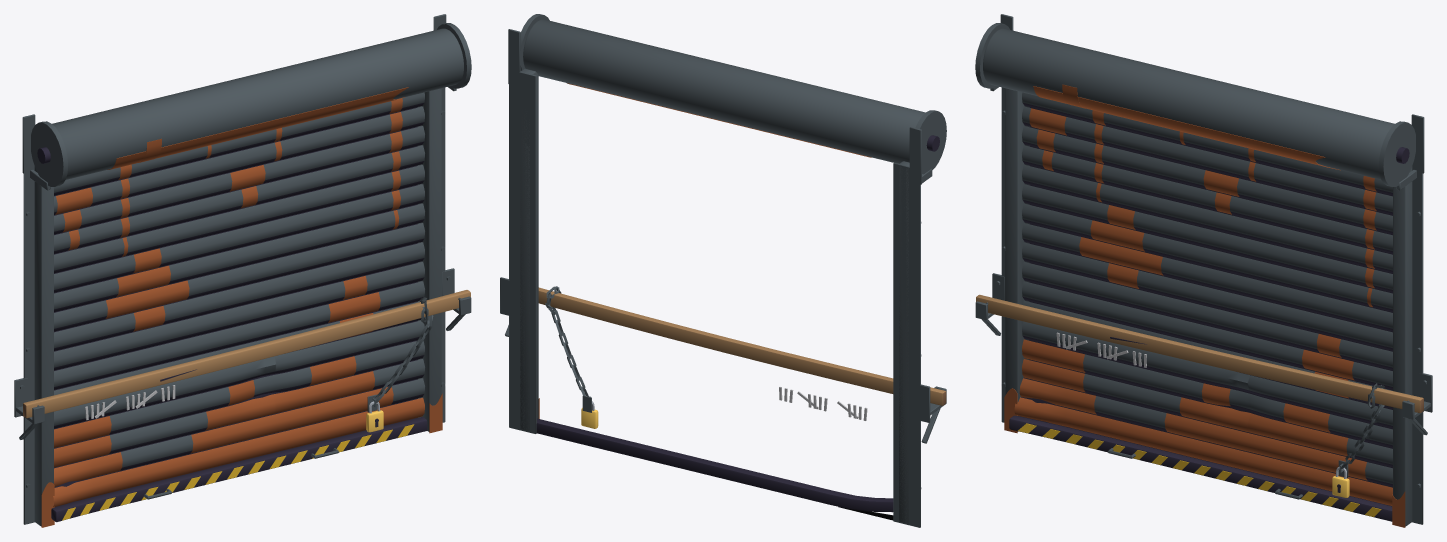
Rendered from roller_door.glb.
3 renders of one model, left to right at view 1: azimuth 30°, elevation 25°; view 2: azimuth 150°, elevation 25°; view 3: azimuth 330°, elevation 25°, orthographic. The views are drawn at different scales.
Parts seen in each view (by area): view 1: Shutter, Beam, Chain; view 2: Shutter, Beam, Chain; view 3: Shutter, Beam, Chain.
Boxes of the visible parts, bbox=[...] form: Shutter: bbox=[14, 14, 471, 527]; Beam: bbox=[23, 290, 470, 418]; Chain: bbox=[374, 296, 433, 402]; Shutter: bbox=[500, 14, 946, 527]; Beam: bbox=[538, 287, 946, 405]; Chain: bbox=[545, 286, 588, 396]; Shutter: bbox=[975, 14, 1432, 527]; Beam: bbox=[976, 294, 1423, 413]; Chain: bbox=[1341, 383, 1384, 468].
Bounding box in the file's own units: 4.8 × 4.23 × 0.6339.
